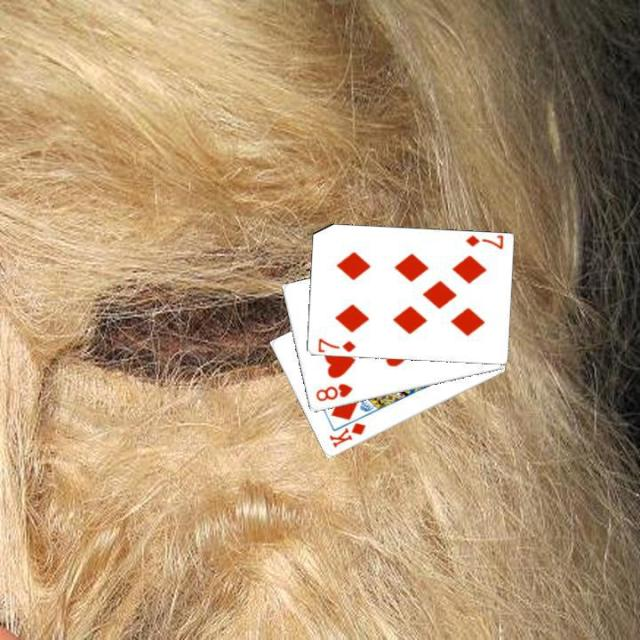7D: (461, 232, 505, 252), (314, 334, 357, 354)
8H: (311, 379, 355, 404)
KD: (325, 418, 368, 449)
